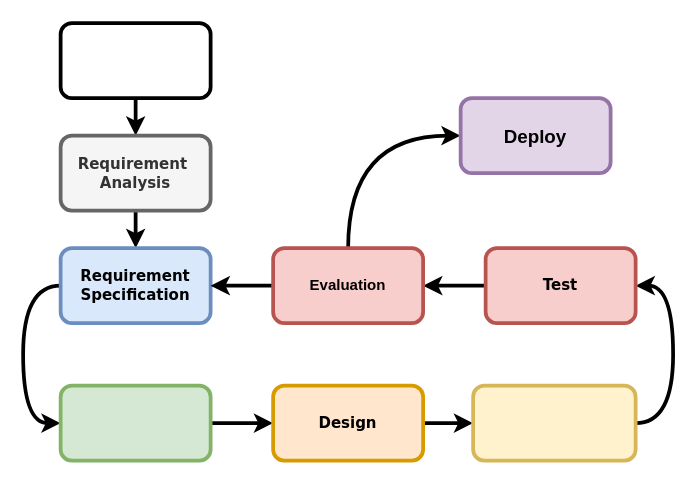
This 696x484 diagram has some shape labels left out. Here are the shapes that lost their labels. From the top down, the centre of each, then its label:
point (135, 60): Initial study
point (135, 422): Requirement Prioritization
point (554, 422): Development / Implementation
